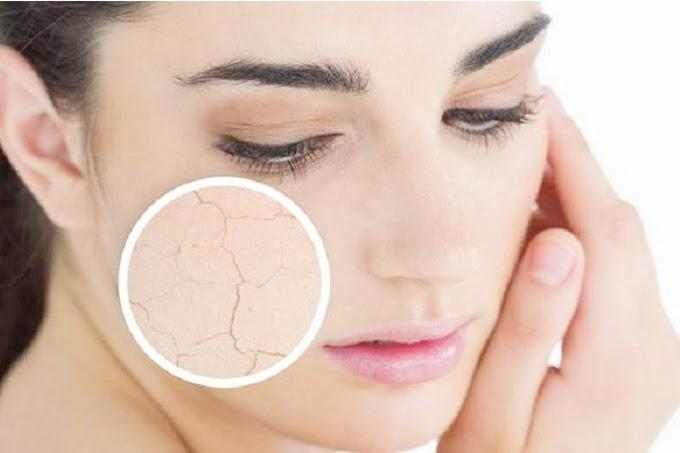Dry-Skin: (129, 182, 318, 374)
